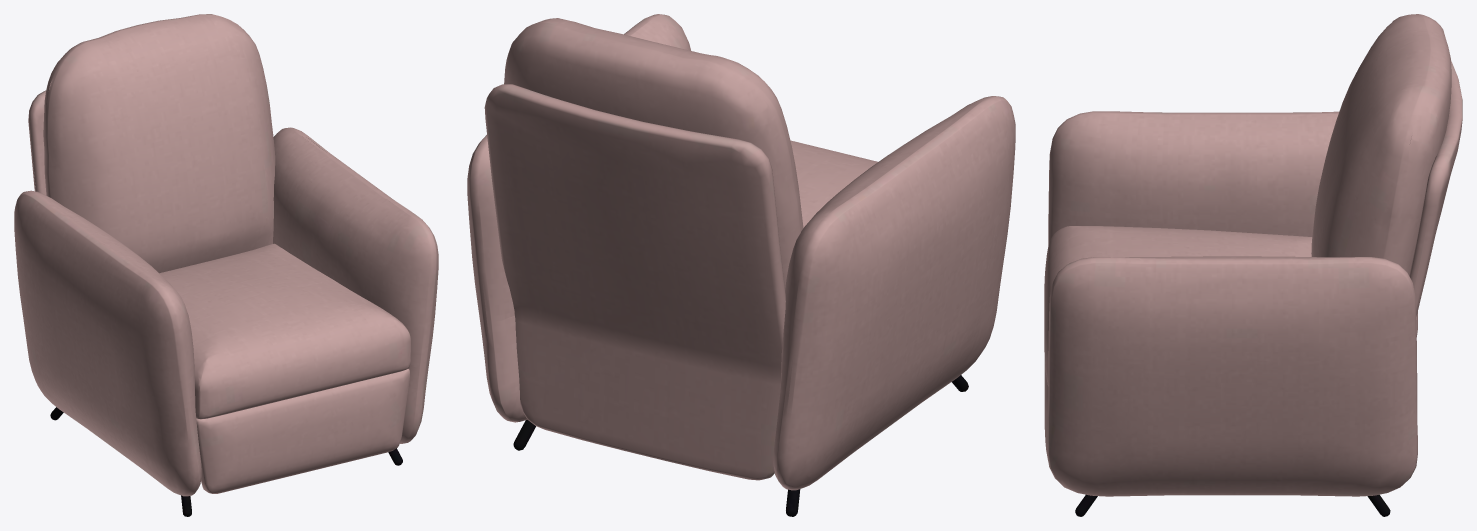
The model's file is ekolsund_fotel_rozkadany_59297184.glb.
3 views of the same model, side by side, from view 1: azimuth 30°, elevation 25°; view 2: azimuth 150°, elevation 25°; view 3: azimuth 270°, elevation 25° (orthographic). The views are drawn at different scales.
Parts seen in each view (by area): view 1: ekolsund_fotel_rozkadany_59297184; view 2: ekolsund_fotel_rozkadany_59297184; view 3: ekolsund_fotel_rozkadany_59297184.
Part boxes in pixels (box(x1,y1,x2,y2)): ekolsund_fotel_rozkadany_59297184: box(14, 14, 438, 516); ekolsund_fotel_rozkadany_59297184: box(467, 14, 1015, 516); ekolsund_fotel_rozkadany_59297184: box(1044, 14, 1462, 516).
Bounding box in the file's own units: 0.8563 × 0.9704 × 0.902.
Materials: 1 (1 with a texture image).
